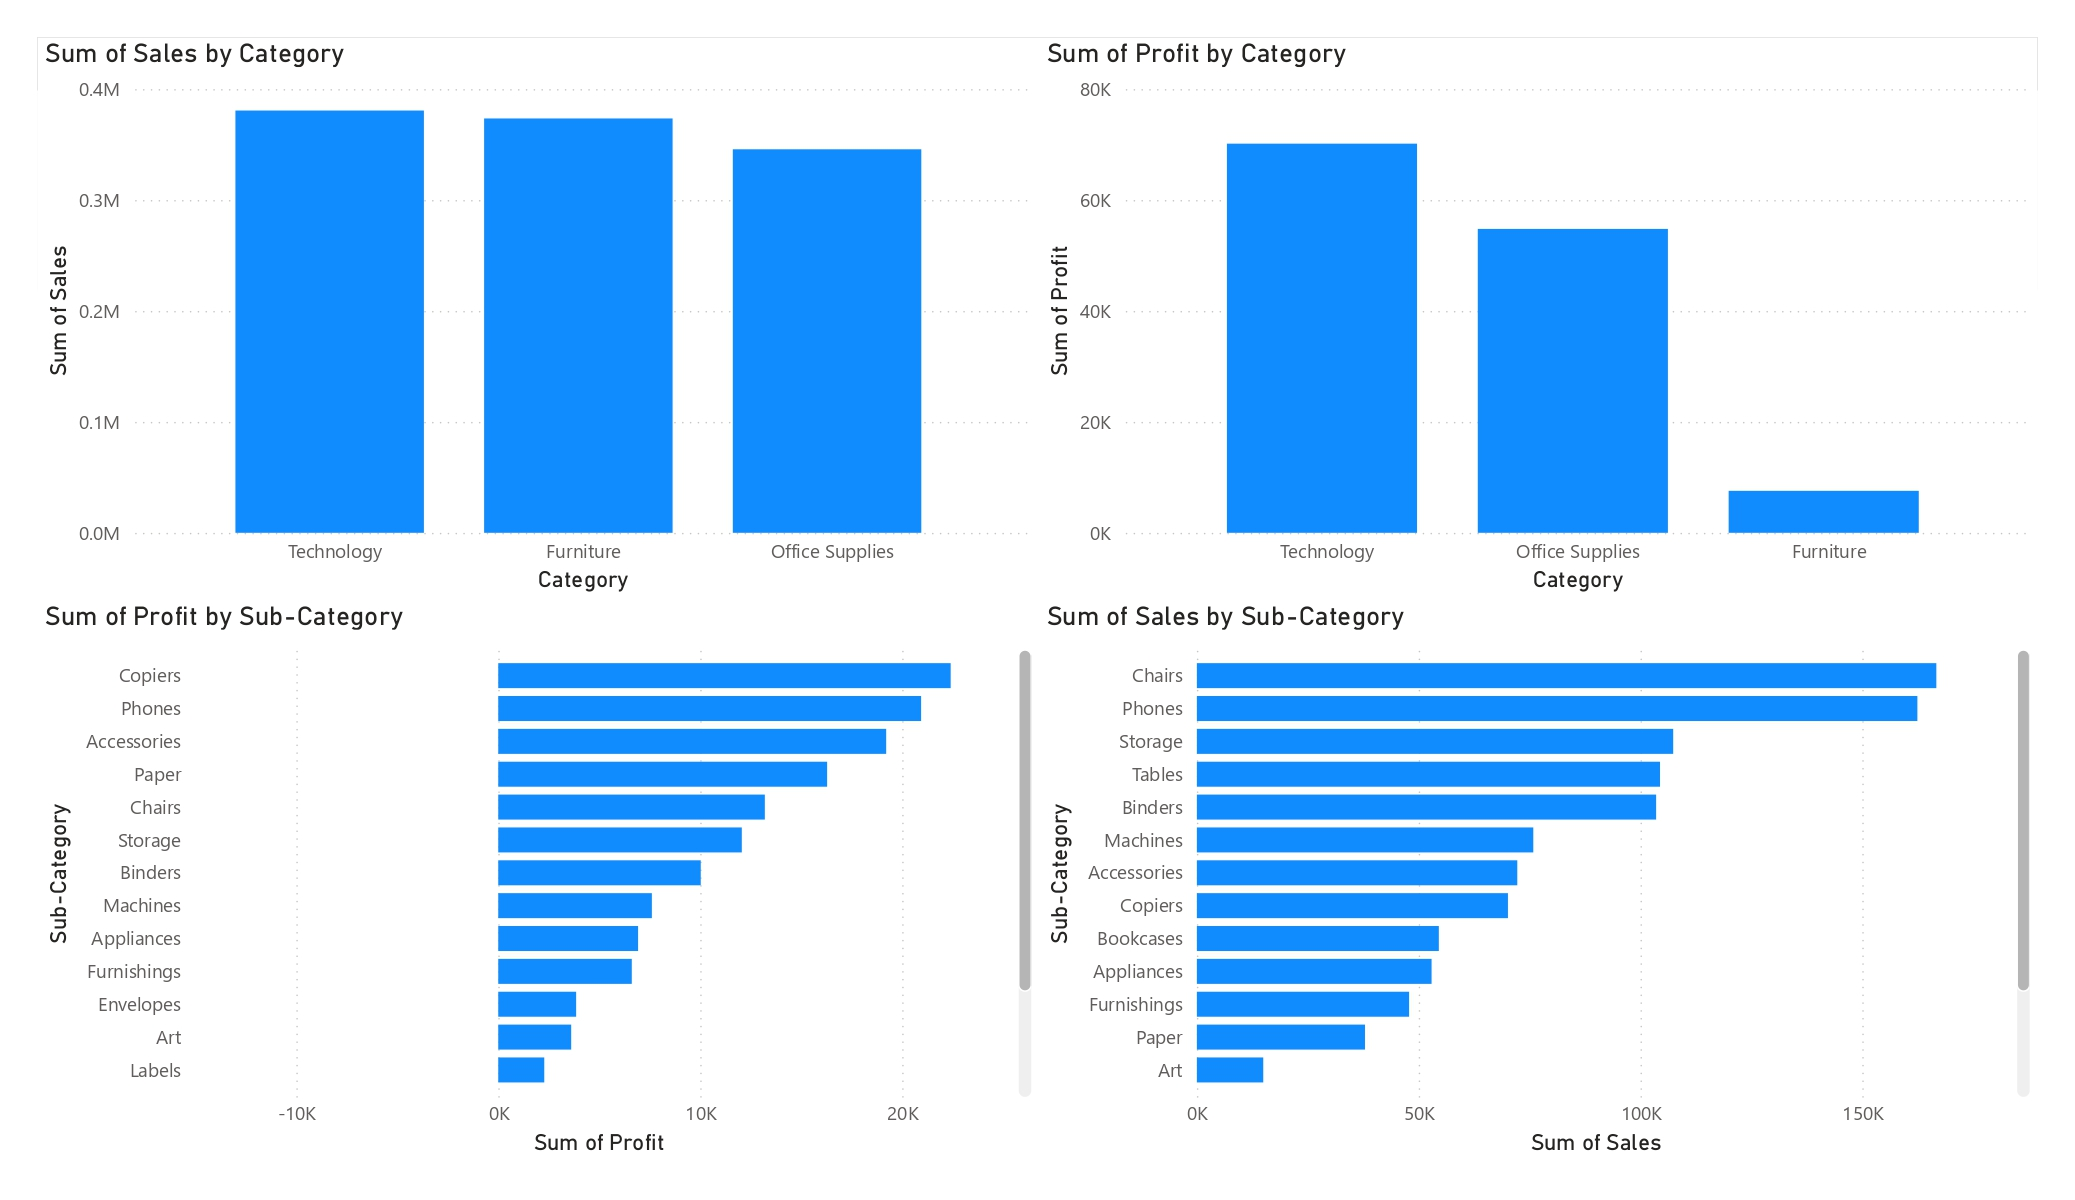

The dashboard page shown, as its layout file describes it:
{"tool":"powerbi","page":{"name":"Page 2","canvas":[1280,720],"ordinal":1},"visuals":[{"type":"barChart","fields":{"Category":["Orders.Sub-Category"],"Y":["Sum(Orders.Sales)"]},"box":[640.7,360,639.2,360],"z":0},{"type":"barChart","fields":{"Category":["Orders.Sub-Category"],"Y":["Sum(Orders.Profit)"]},"box":[0,360,640.7,360],"z":1000},{"type":"columnChart","fields":{"Category":["Orders.Category"],"Y":["Sum(Orders.Sales)"]},"box":[0,0,640.7,360],"z":2000},{"type":"columnChart","fields":{"Category":["Orders.Category"],"Y":["Sum(Orders.Profit)"]},"box":[640.7,0,639.2,360],"z":3000}]}

Visuals, with their boxes on the page's 1280x720 design canvas (x1, y1, x2, y2). These are canvas units, not pixel positions in the 2075x1200 screenshot, which may show the page scaled, cropped or inside an application window:
barChart - Orders.Sub-Category x Sum(Orders.Sales): crop(641, 360, 1280, 720)
barChart - Orders.Sub-Category x Sum(Orders.Profit): crop(0, 360, 641, 720)
columnChart - Orders.Category x Sum(Orders.Sales): crop(0, 0, 641, 360)
columnChart - Orders.Category x Sum(Orders.Profit): crop(641, 0, 1280, 360)
